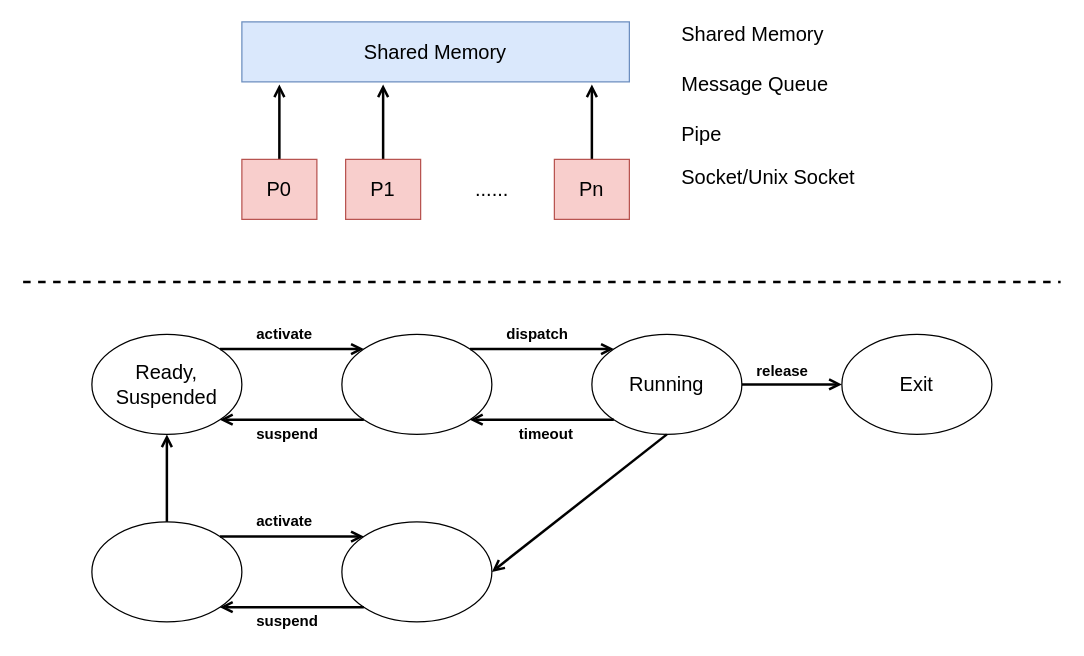
This 1084x656 diagram has some shape labels left out. Each missing label, with the centre of its shape:
Blocked: the point at 416,571
Blocked, Suspended: the point at 166,571
Ready: the point at 416,383
